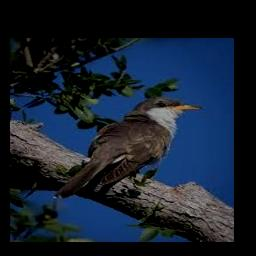Cuckoo: (53, 98, 203, 199)
